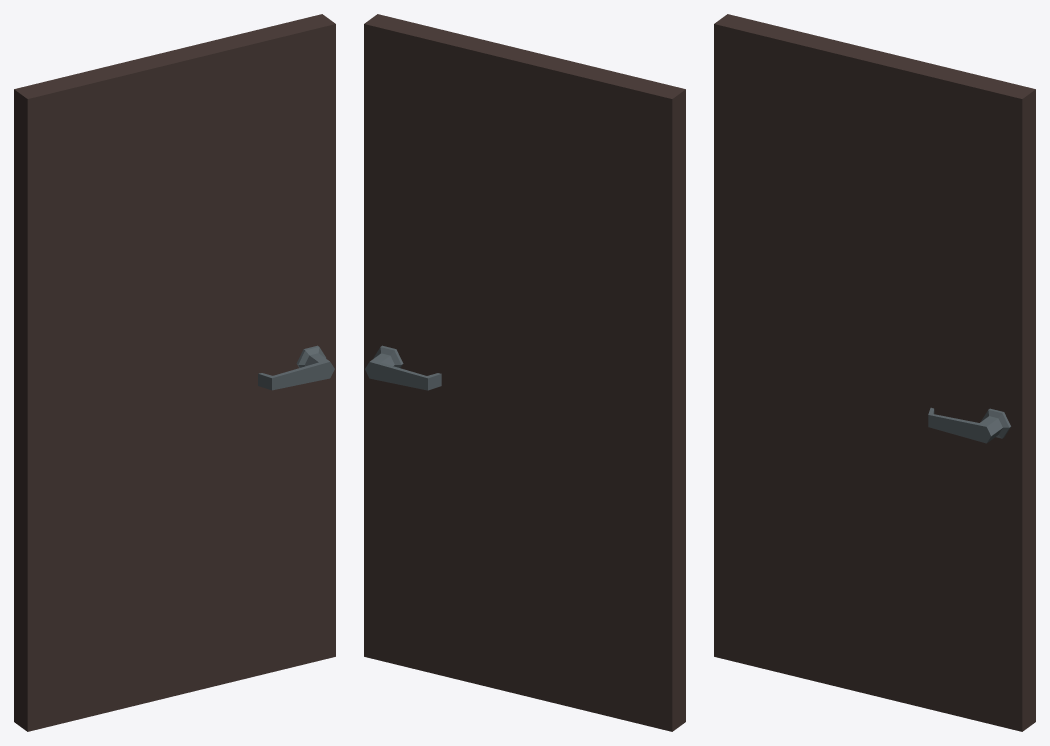
The model's file is SM_Bld_Base_Door_01.obj.
3 views of the same model, side by side, from view 1: azimuth 30°, elevation 25°; view 2: azimuth 150°, elevation 25°; view 3: azimuth 330°, elevation 25° (orthographic).
Parts seen in each view (by area): view 1: SM_Bld_Base_Door_01_0; view 2: SM_Bld_Base_Door_01_0; view 3: SM_Bld_Base_Door_01_0.
Boxes of the visible parts, box(x1,y1,x2,y2) form: SM_Bld_Base_Door_01_0: box(14, 14, 335, 731); SM_Bld_Base_Door_01_0: box(364, 14, 685, 731); SM_Bld_Base_Door_01_0: box(714, 14, 1035, 731).
Size of the model in its own units: 1 by 1.97 by 0.2473.
1 material, 1 textured.
